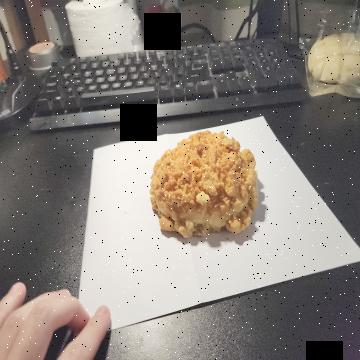soboru_bread: (149, 128, 260, 242)
